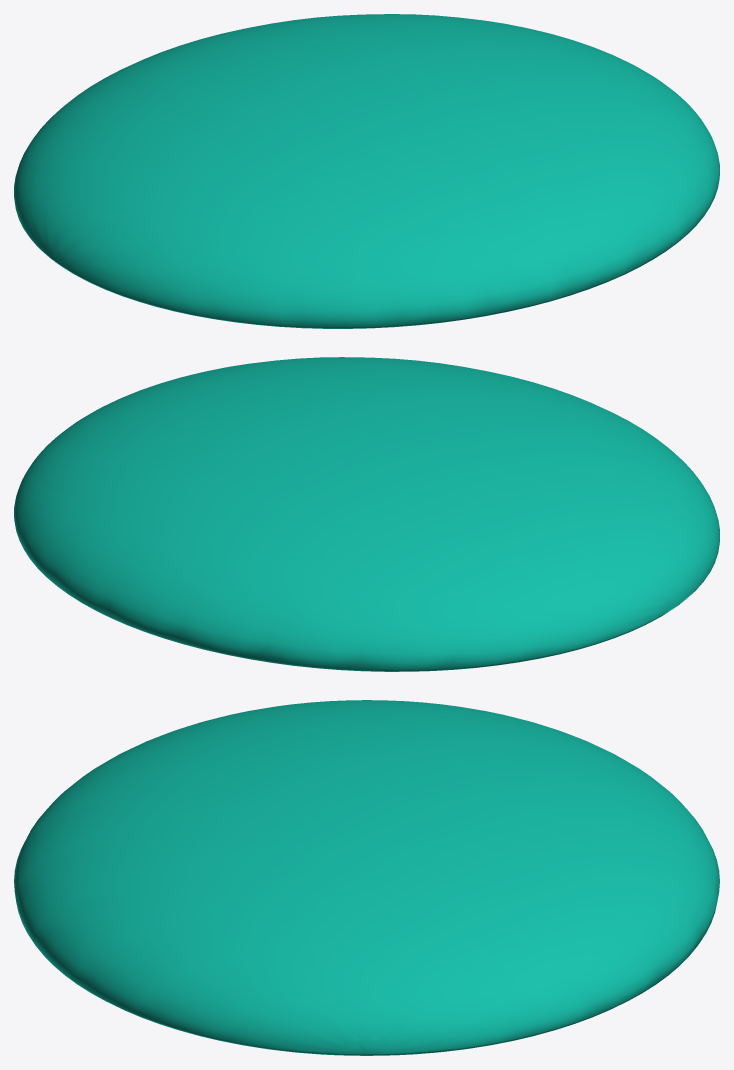
File: december.fbx
3 views of the same model, one above another, from view 1: azimuth 30°, elevation 25°; view 2: azimuth 150°, elevation 25°; view 3: azimuth 270°, elevation 25° (orthographic). The views are drawn at different scales.
Visible parts, largest first — view 1: turquoise; view 2: turquoise; view 3: turquoise.
Boxes of the visible parts, x1,y1,x2,y2 form: turquoise: (14,14,719,328); turquoise: (14,357,719,671); turquoise: (14,700,719,1055).
Bounding box in the file's own units: 39476 × 7023 × 36122.
